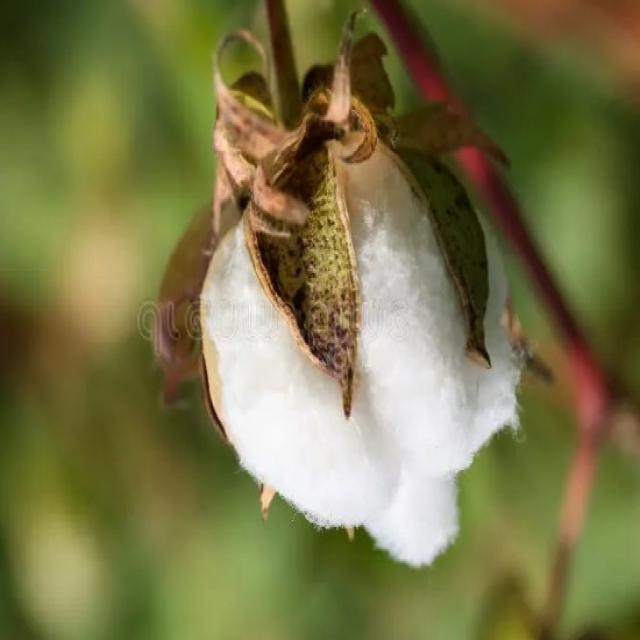Matured Cotton Boll: (202, 106, 509, 565)
